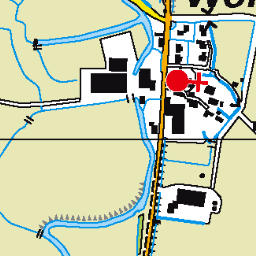church: (162, 68, 210, 97)
